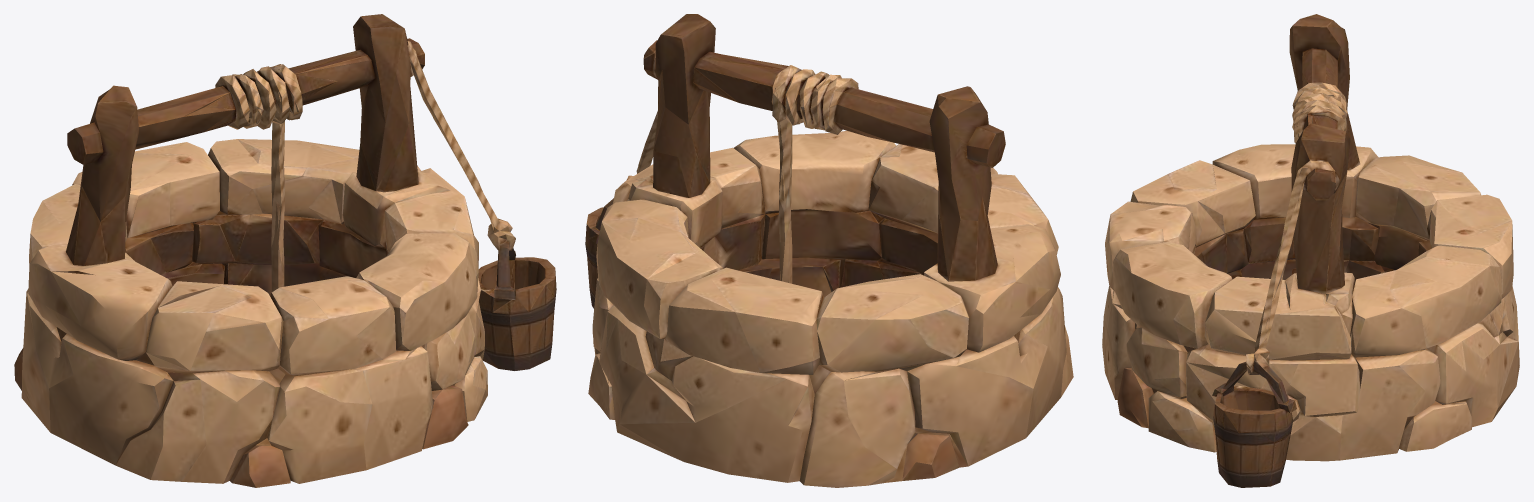
The model's file is well.glb.
3 views of the same model, side by side, from view 1: azimuth 30°, elevation 25°; view 2: azimuth 150°, elevation 25°; view 3: azimuth 270°, elevation 25° (orthographic). The views are drawn at different scales.
Size of the model in its own units: 1.9 by 1.28 by 1.61.
1 material, 1 textured.
